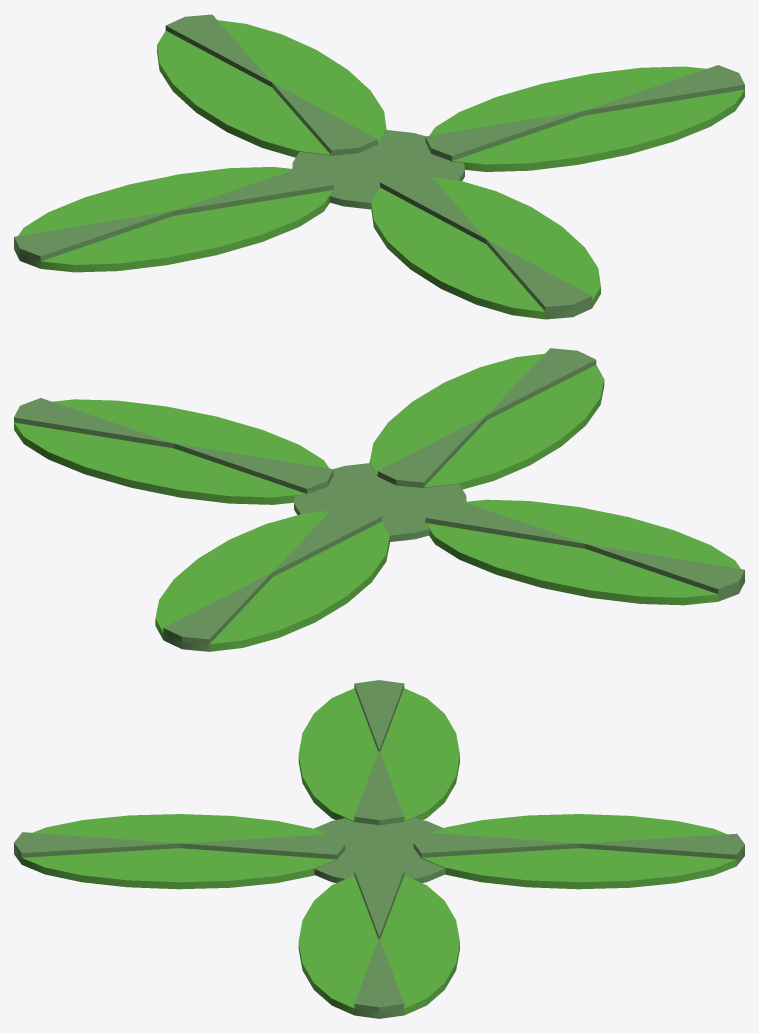
The model's file is Underwater Base Plant.fbx.
The picture shows the model from 3 angles, top to bottom: view 1: azimuth 30°, elevation 25°; view 2: azimuth 150°, elevation 25°; view 3: azimuth 270°, elevation 25°; orthographic projection. The views are drawn at different scales.
Visible parts, largest first — view 1: pCylinder3, pCylinder2, pCylinder4, pCylinder1, pCylinder5; view 2: pCylinder3, pCylinder2, pCylinder1, pCylinder4, pCylinder5; view 3: pCylinder4, pCylinder1, pCylinder2, pCylinder3, pCylinder5.
Boxes of the visible parts, <box> form: pCylinder3: <box>14,165,333,272</box>; pCylinder2: <box>425,65,744,171</box>; pCylinder4: <box>371,171,600,319</box>; pCylinder1: <box>157,14,386,157</box>; pCylinder5: <box>292,130,464,209</box>; pCylinder3: <box>425,498,744,605</box>; pCylinder2: <box>14,398,333,504</box>; pCylinder1: <box>155,505,389,651</box>; pCylinder4: <box>369,348,604,489</box>; pCylinder5: <box>294,463,466,541</box>; pCylinder4: <box>14,814,345,889</box>; pCylinder1: <box>413,814,744,889</box>; pCylinder2: <box>298,867,459,1018</box>; pCylinder3: <box>298,680,459,825</box>; pCylinder5: <box>314,818,445,883</box>.
Bounding box in the file's own units: 9.59 × 0.159 × 9.05.
